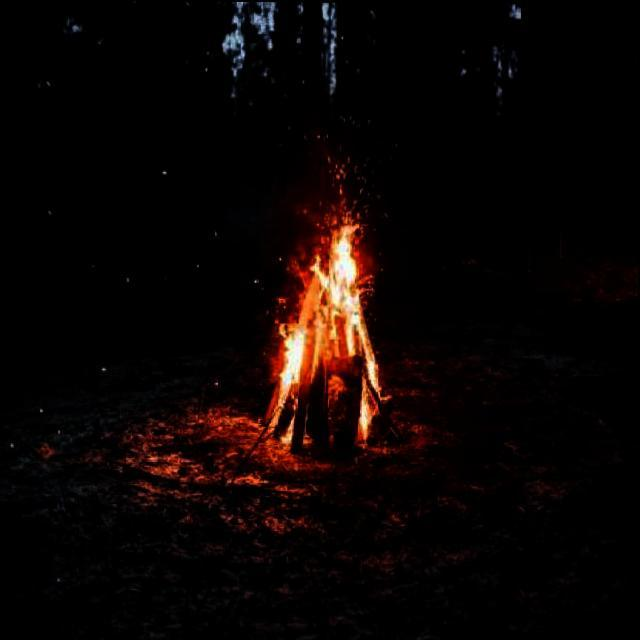Fire: (259, 122, 413, 460)
Smoke: (20, 52, 430, 266)
